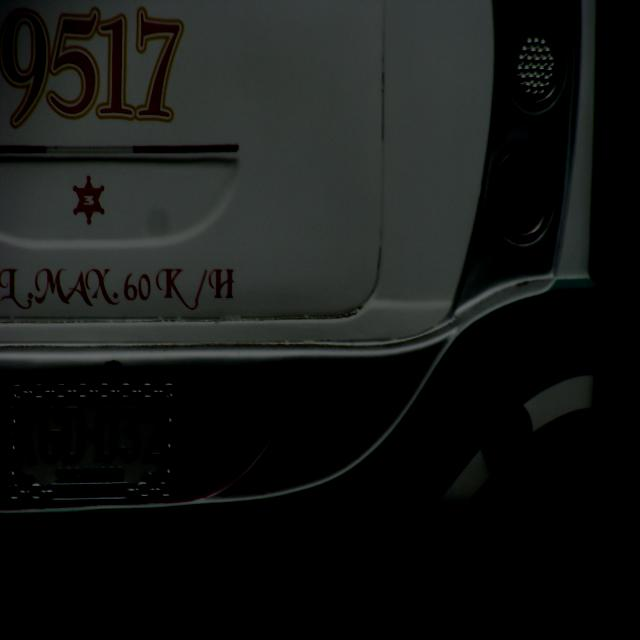placa: (13, 396, 167, 488)
